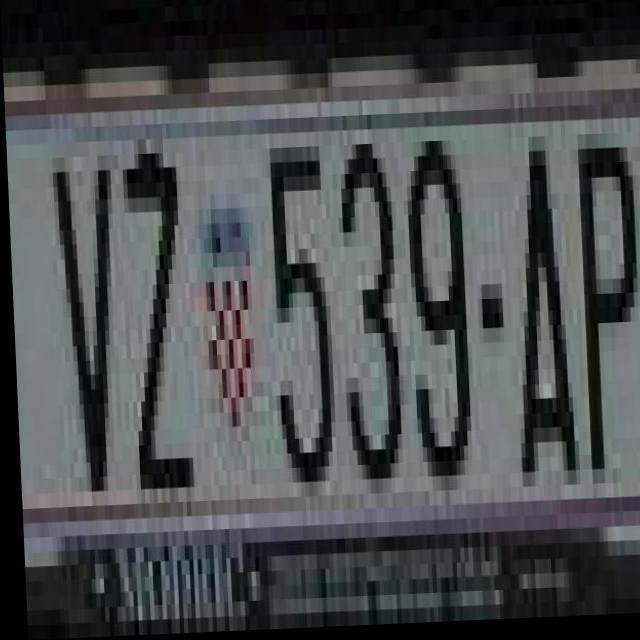3: (336, 88, 396, 512)
5: (258, 105, 337, 471)
9: (394, 115, 485, 495)
A: (505, 112, 567, 492)
P: (564, 138, 640, 505)
V: (37, 127, 116, 493)
Z: (124, 125, 185, 490)
